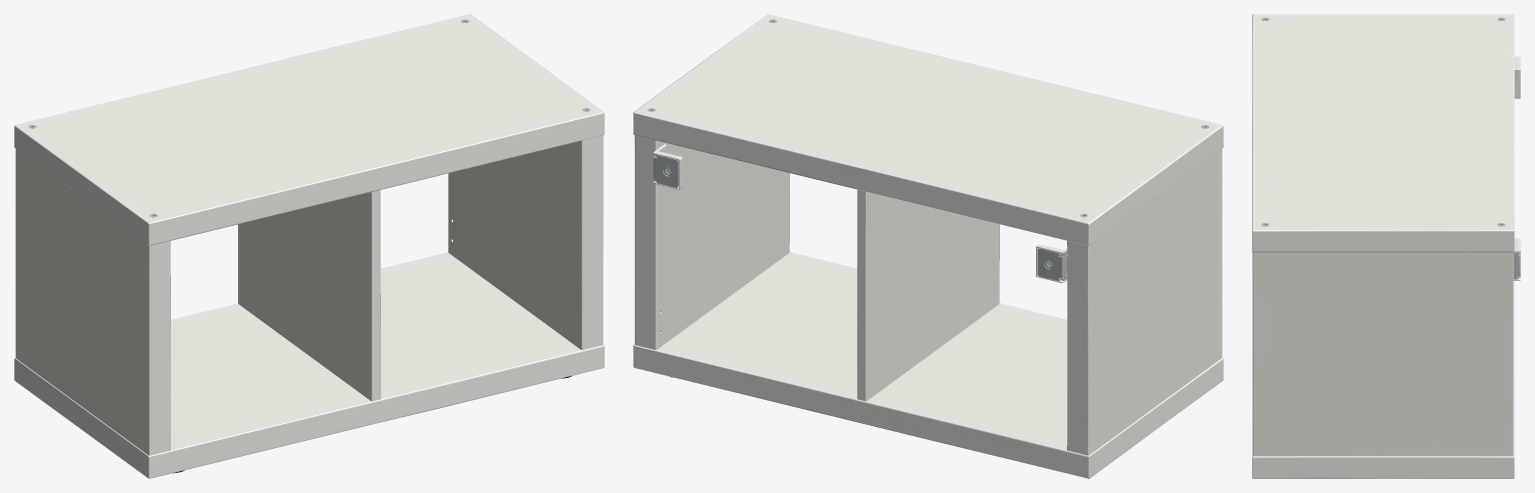
File: Kallax90301555.glb
The picture shows the model from 3 angles, left to right: view 1: azimuth 30°, elevation 25°; view 2: azimuth 150°, elevation 25°; view 3: azimuth 270°, elevation 25°; orthographic projection. The views are drawn at different scales.
Visible parts, largest first — view 1: model; view 2: model; view 3: model.
Part boxes in pixels (bbox=[...]): model: bbox=[14, 14, 604, 478]; model: bbox=[633, 14, 1223, 478]; model: bbox=[1252, 14, 1520, 478].
Bounding box in the file's own units: 0.765 × 0.4163 × 0.401.
1 material, 1 textured.
